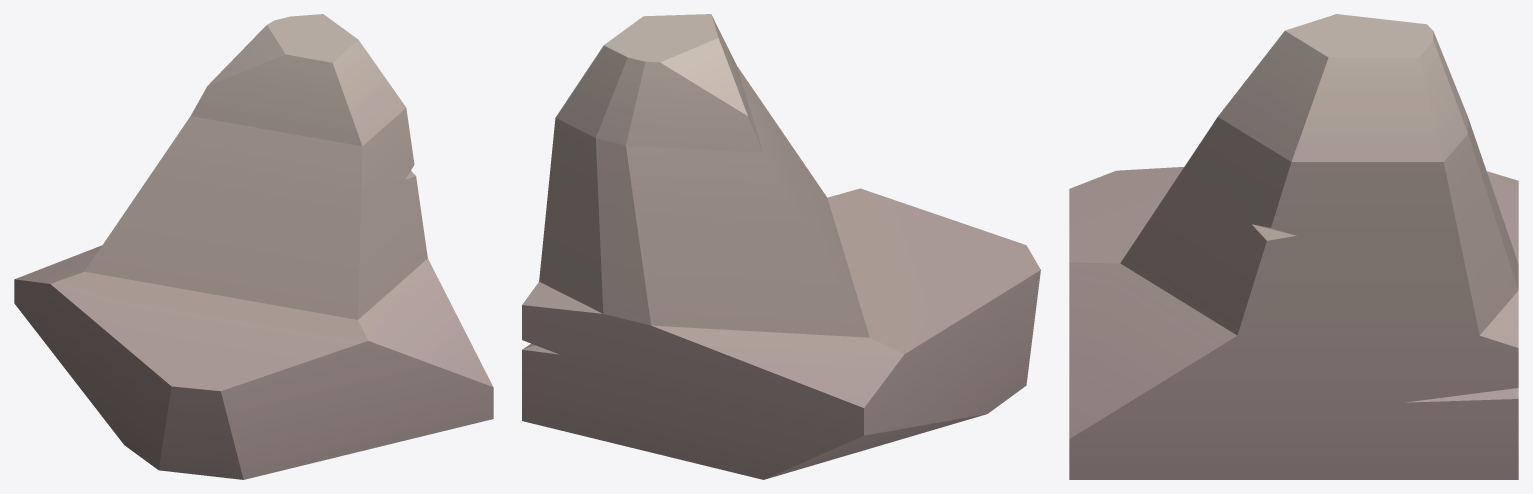
3 renders of one model, left to right at view 1: azimuth 30°, elevation 25°; view 2: azimuth 150°, elevation 25°; view 3: azimuth 270°, elevation 25°, orthographic. The views are drawn at different scales.
Parts seen in each view (by area): view 1: Plane_4; view 2: Plane_4; view 3: Plane_4.
Part boxes in pixels (x1,y1,x2,y2): Plane_4: (14,14,493,479); Plane_4: (522,14,1040,479); Plane_4: (1069,14,1518,479).
Bounding box in the file's own units: 1.11 × 1.1 × 1.11.
